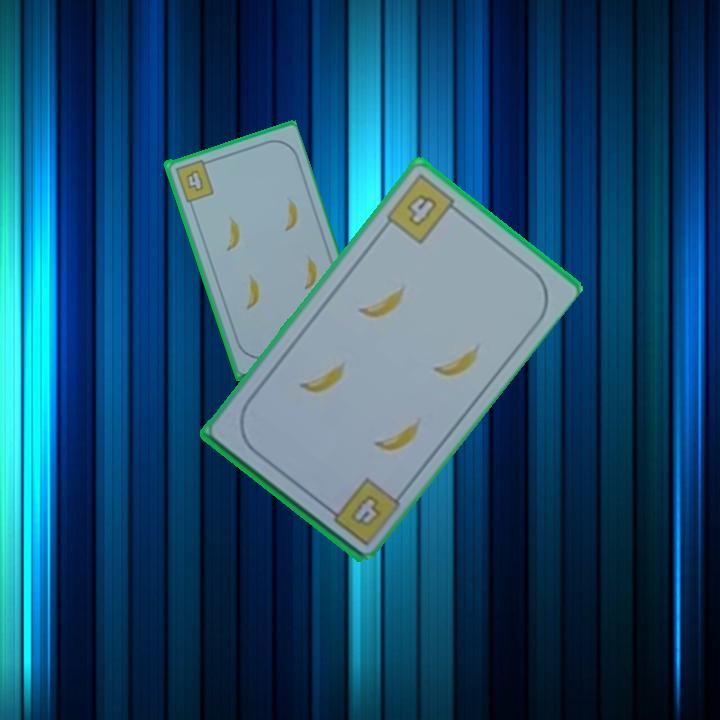4b: (382, 170, 464, 247), (171, 155, 216, 205), (350, 493, 381, 526)
